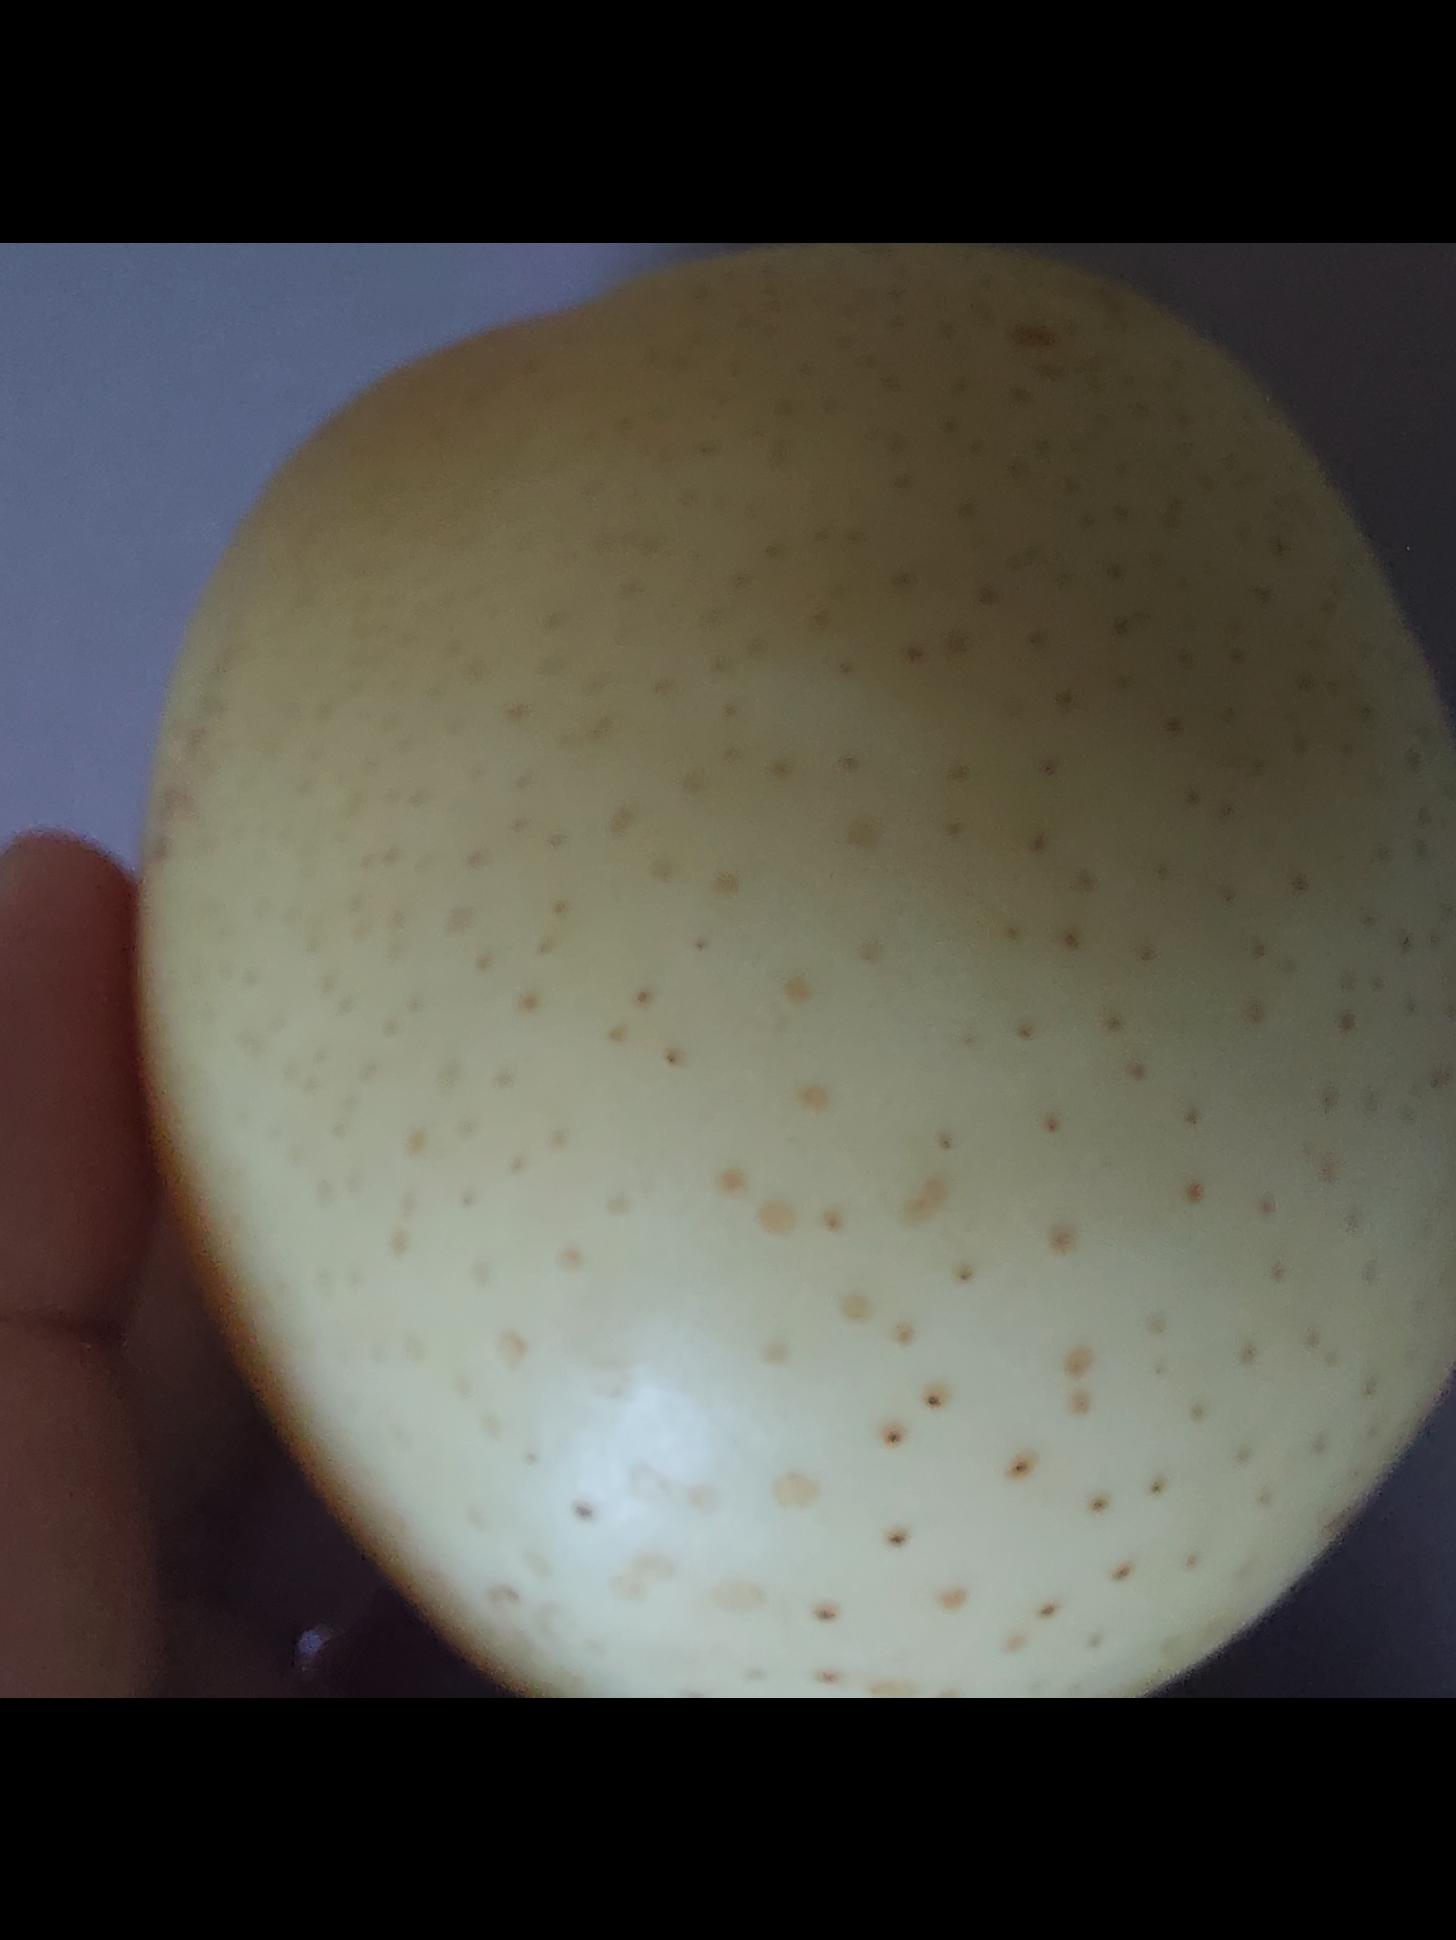Good Pear: (125, 245, 1456, 1698)
